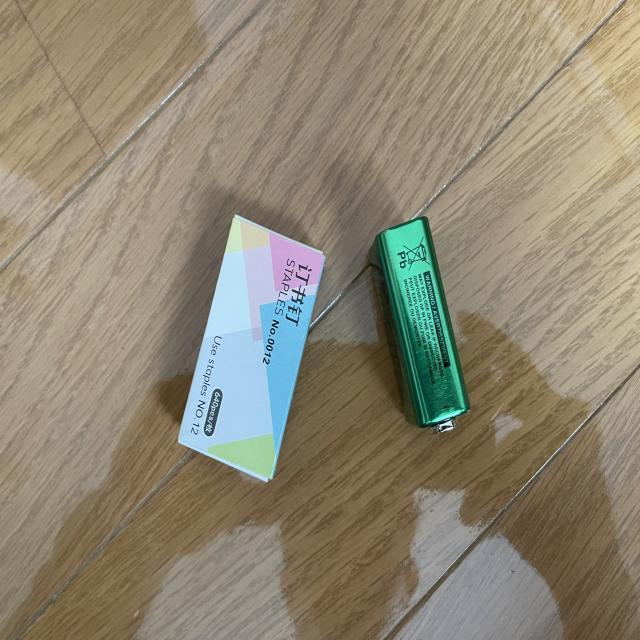9V: (368, 218, 469, 435)
